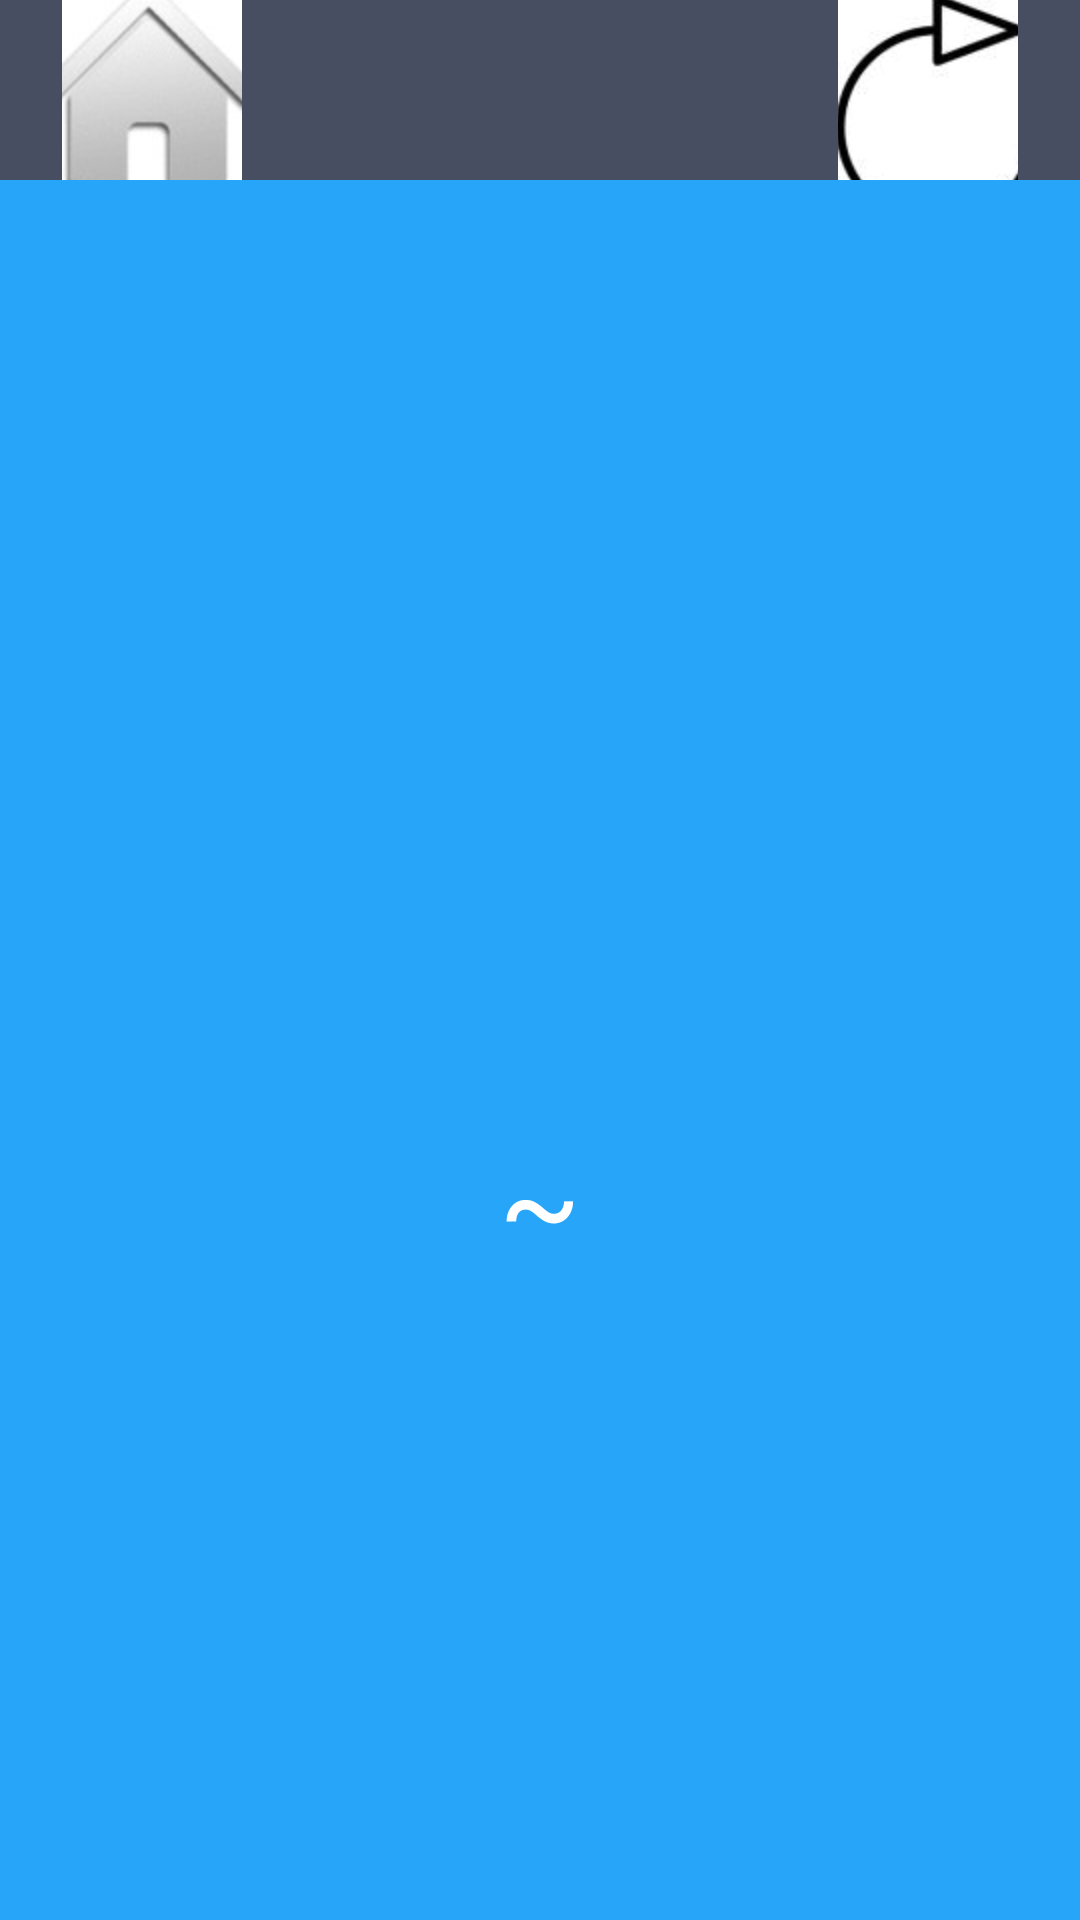

Screen size 1080px×1920px. Icon name, then its box in pixels as BBox(x1, y1, x2, y2):
home: BBox(62, 0, 242, 180)
reflesh: BBox(838, 0, 1018, 180)
